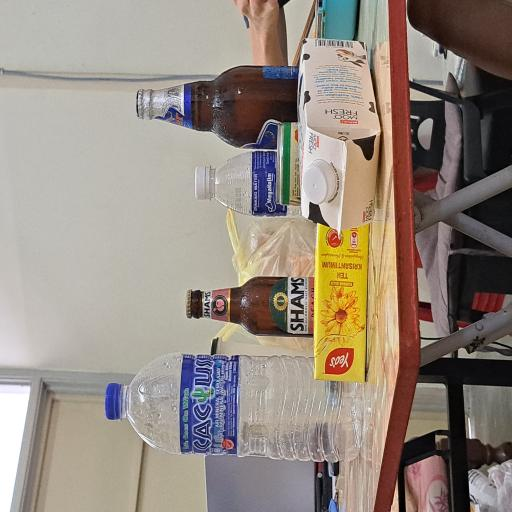can: (230, 367, 292, 400)
drink carton: (204, 396, 355, 509), (96, 417, 218, 493)
glass bottle: (274, 182, 335, 398), (131, 248, 176, 418)
plastic bottle: (37, 160, 120, 484), (222, 280, 271, 400)
plastic bottle cap: (230, 403, 264, 448), (69, 140, 97, 162), (235, 260, 260, 279)
